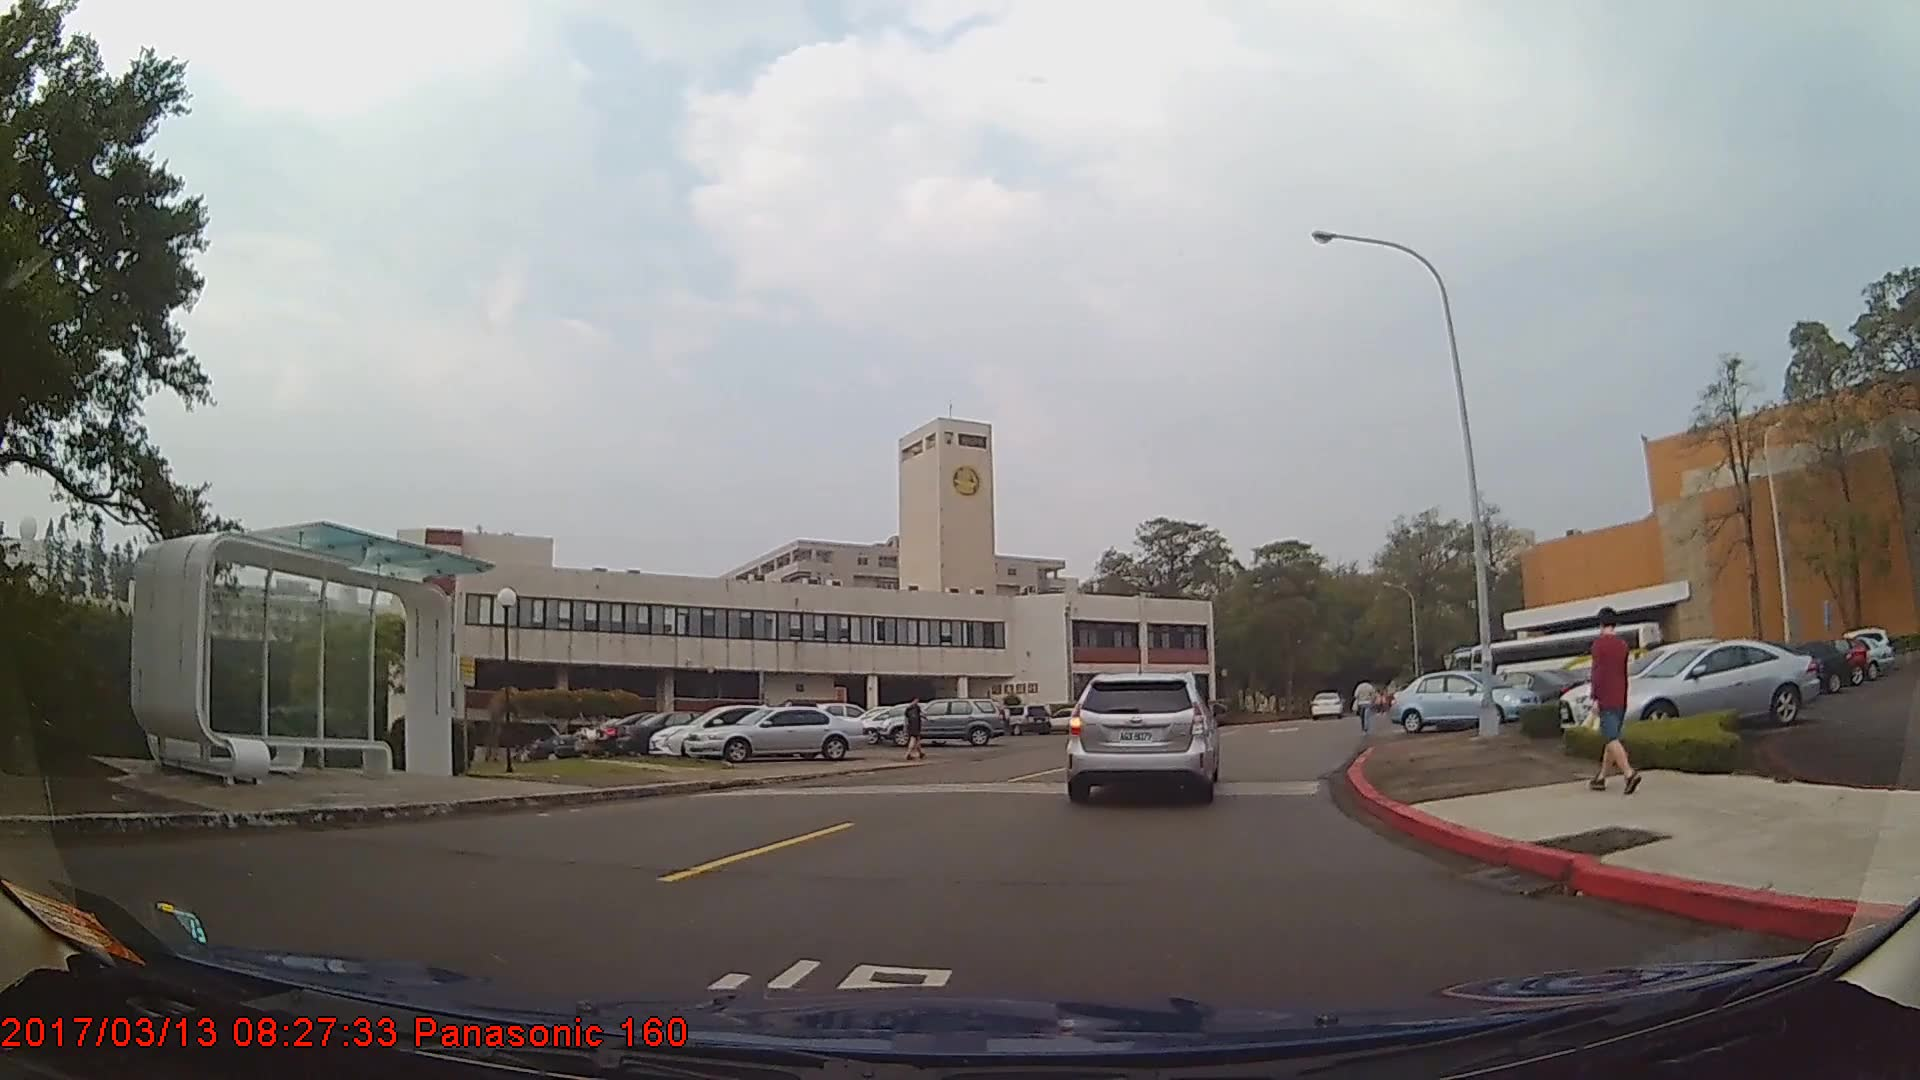pedestrian: (1584, 608, 1641, 808), (903, 695, 930, 765), (1354, 674, 1380, 735)
vehicle: (1588, 637, 1818, 731), (1559, 637, 1783, 731), (1066, 671, 1217, 806), (1386, 667, 1538, 733), (683, 705, 867, 760), (645, 705, 825, 760), (614, 708, 741, 760), (1739, 642, 1854, 696), (879, 697, 1009, 745), (1309, 689, 1343, 721)
